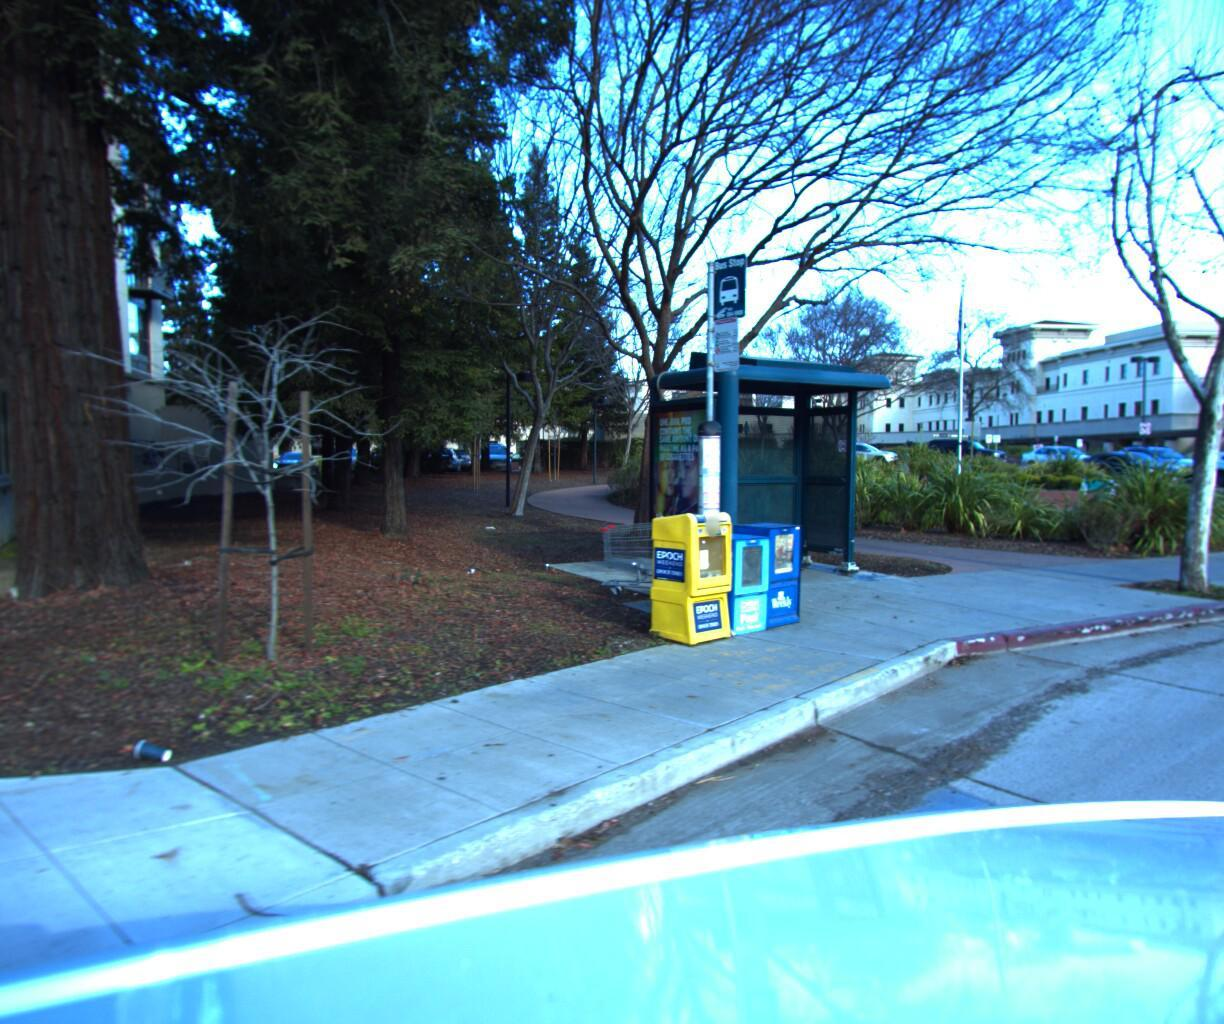car: (831, 436, 905, 462), (1201, 441, 1224, 487)
